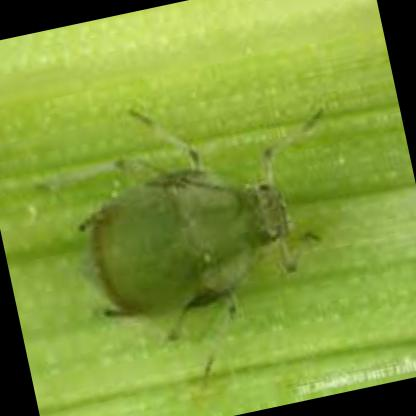schizaphis graminum: (80, 110, 324, 339)
